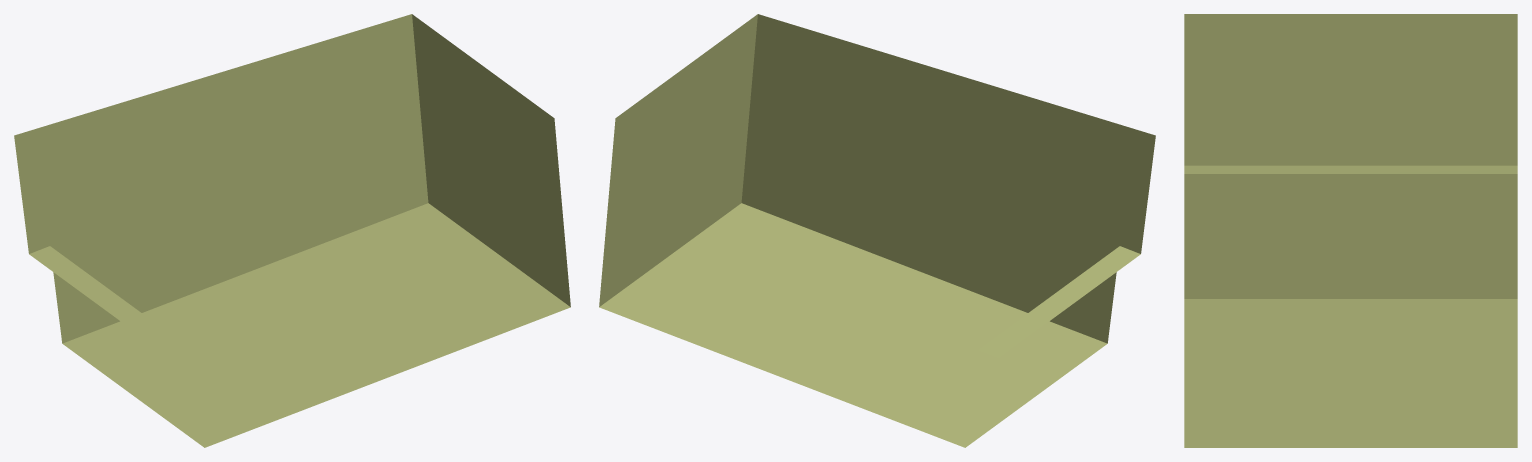
3 renders of one model, left to right at view 1: azimuth 30°, elevation 25°; view 2: azimuth 150°, elevation 25°; view 3: azimuth 270°, elevation 25°, orthographic. The views are drawn at different scales.
Parts seen in each view (by area): view 1: 0_3_0_1_2_2_2_0_2; view 2: 0_3_0_1_2_2_2_0_2; view 3: 0_3_0_1_2_2_2_0_2.
Boxes of the visible parts, box(x1,y1,x2,y2) form: 0_3_0_1_2_2_2_0_2: box(14, 14, 570, 447); 0_3_0_1_2_2_2_0_2: box(599, 14, 1155, 447); 0_3_0_1_2_2_2_0_2: box(1184, 14, 1517, 447).
Size of the model in its own units: 15.11 by 8.52 by 9.
